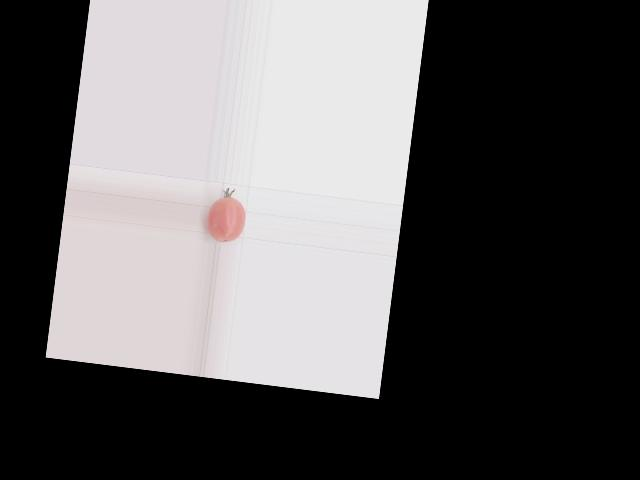tomato: (204, 195, 248, 244)
